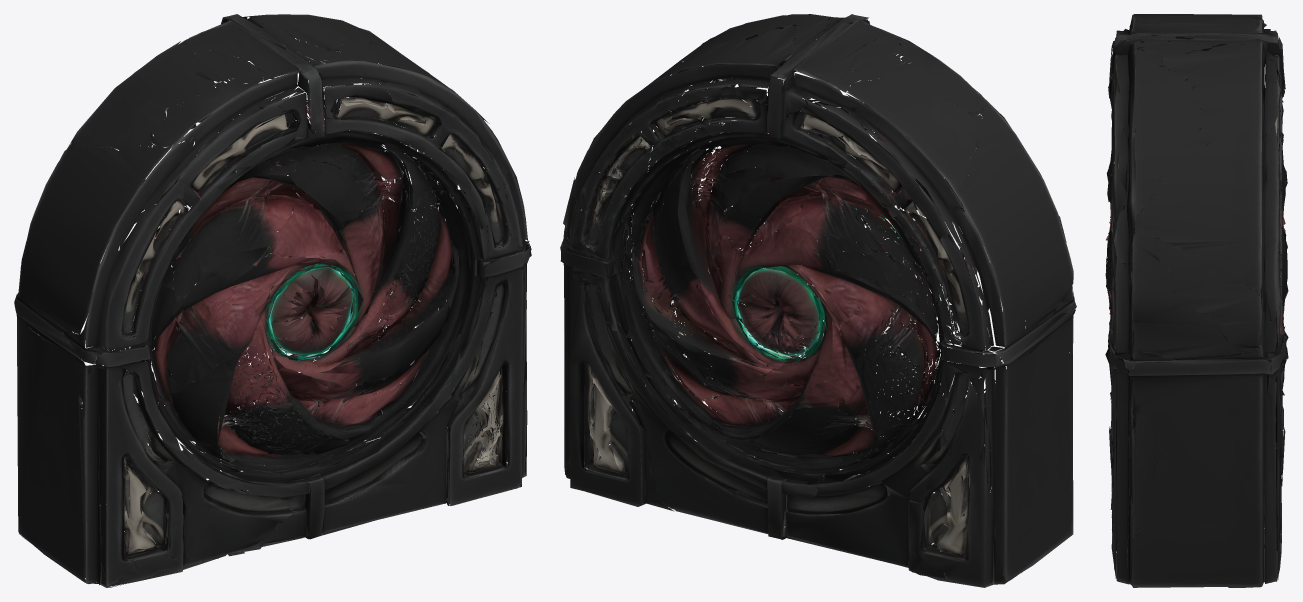
The model's file is door_biomechanical_iris.glb.
3 views of the same model, side by side, from view 1: azimuth 30°, elevation 25°; view 2: azimuth 150°, elevation 25°; view 3: azimuth 270°, elevation 25° (orthographic). The views are drawn at different scales.
Visible parts, largest first — view 1: node_0; view 2: node_0; view 3: node_0.
Boxes of the visible parts, x1=… form: node_0: x1=14, y1=14, x2=531, y2=587; node_0: x1=560, y1=14, x2=1076, y2=587; node_0: x1=1105, y1=14, x2=1288, y2=587.
Bounding box in the file's own units: 0.8516 × 0.851 × 0.311.
1 material, 1 textured.
